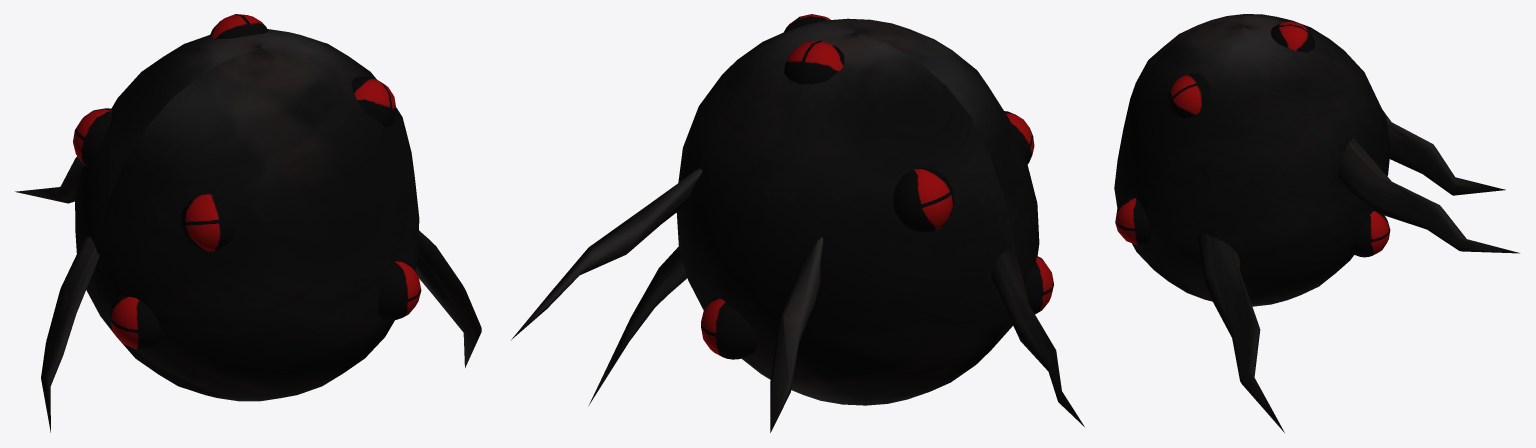
Rendered from CameraMonster.fbx.
3 renders of one model, left to right at view 1: azimuth 30°, elevation 25°; view 2: azimuth 150°, elevation 25°; view 3: azimuth 270°, elevation 25°, orthographic. The views are drawn at different scales.
Parts seen in each view (by area): view 1: Body, Tentacle1, Tentacle2, Eye2, Eye7, Eye3, Eye1, Eye5, Eye4, Tentacle4; view 2: Body, Tentacle3, Tentacle4, Tentacle1, Eye5, Eye6, Tentacle2, Eye4, Eye7, Eye2; view 3: Body, Tentacle3, Tentacle2, Tentacle4, Eye1, Eye3, Eye6, Eye4.
Boxes of the visible parts, left/top/right/bottom form: Body: left=75, top=29, right=419, bottom=401; Tentacle1: left=41, top=236, right=99, bottom=432; Tentacle2: left=415, top=230, right=481, bottom=367; Eye2: left=180, top=194, right=235, bottom=251; Eye7: left=109, top=295, right=160, bottom=349; Eye3: left=378, top=260, right=421, bottom=320; Eye1: left=351, top=77, right=396, bottom=126; Eye5: left=73, top=108, right=112, bottom=166; Eye4: left=209, top=14, right=268, bottom=38; Tentacle4: left=15, top=156, right=83, bottom=203; Body: left=676, top=18, right=1039, bottom=405; Tentacle3: left=511, top=168, right=702, bottom=339; Tentacle4: left=770, top=237, right=823, bottom=432; Tentacle1: left=991, top=250, right=1084, bottom=426; Eye5: left=893, top=167, right=954, bottom=232; Eye6: left=701, top=298, right=757, bottom=359; Tentacle2: left=588, top=246, right=687, bottom=406; Eye4: left=784, top=40, right=844, bottom=84; Eye7: left=1024, top=256, right=1053, bottom=314; Eye2: left=1004, top=111, right=1034, bottom=164; Body: left=1114, top=14, right=1390, bottom=306; Tentacle3: left=1338, top=137, right=1519, bottom=253; Tentacle2: left=1197, top=233, right=1284, bottom=432; Tentacle4: left=1383, top=111, right=1505, bottom=195; Eye1: left=1168, top=74, right=1210, bottom=118; Eye3: left=1115, top=195, right=1151, bottom=245; Eye6: left=1351, top=210, right=1390, bottom=257; Eye4: left=1270, top=21, right=1315, bottom=52.
Size of the model in its own units: 341 by 295 by 337.
